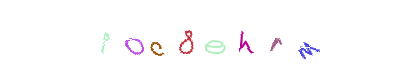0: (137, 0, 217, 80)
8: (159, 0, 239, 80)
C: (142, 0, 222, 80)
E: (183, 0, 263, 80)
H: (188, 0, 268, 80)
I: (135, 0, 215, 80)
M: (266, 0, 346, 80)
R: (204, 0, 284, 80)
